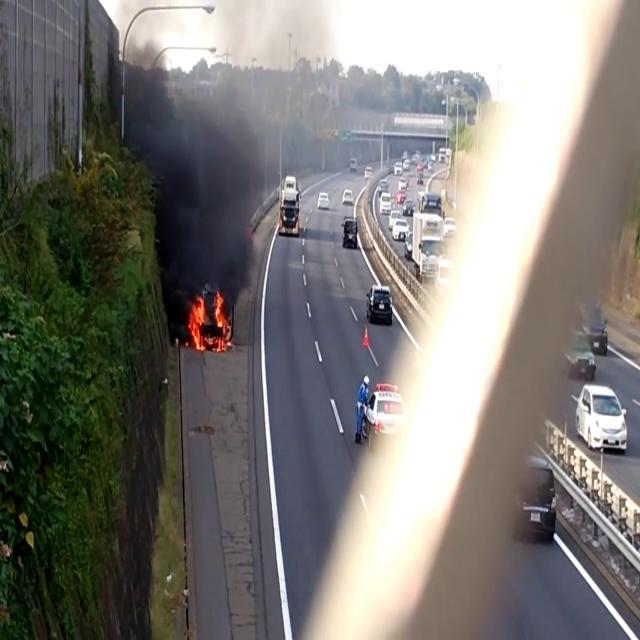Fire: (186, 283, 231, 353)
Smoke: (117, 0, 352, 285)
